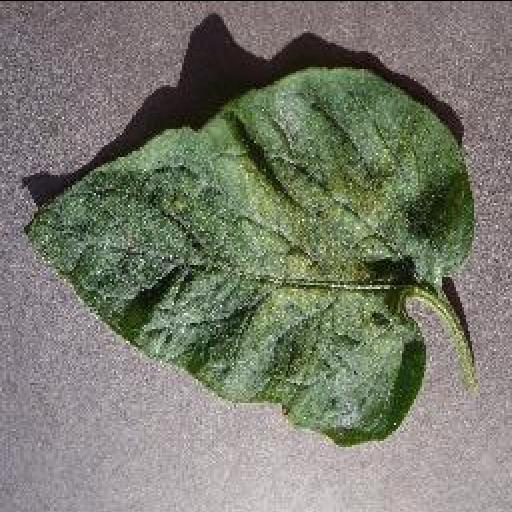disease_tomato: (24, 66, 474, 444)
